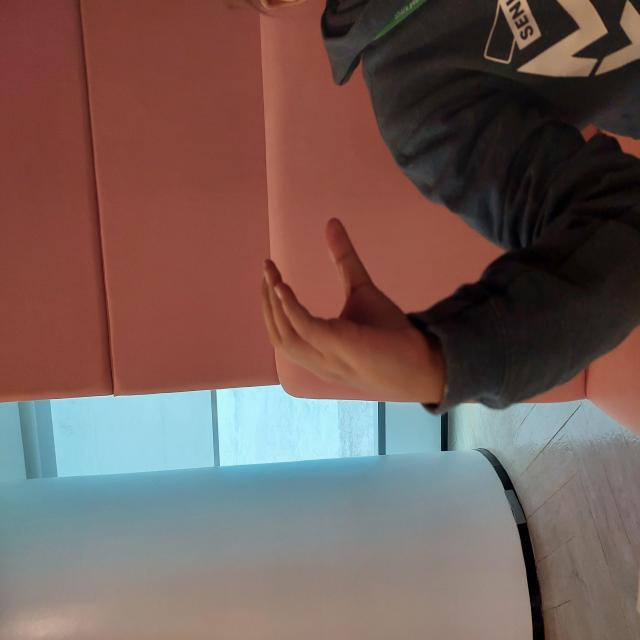C: (233, 253, 431, 438)
